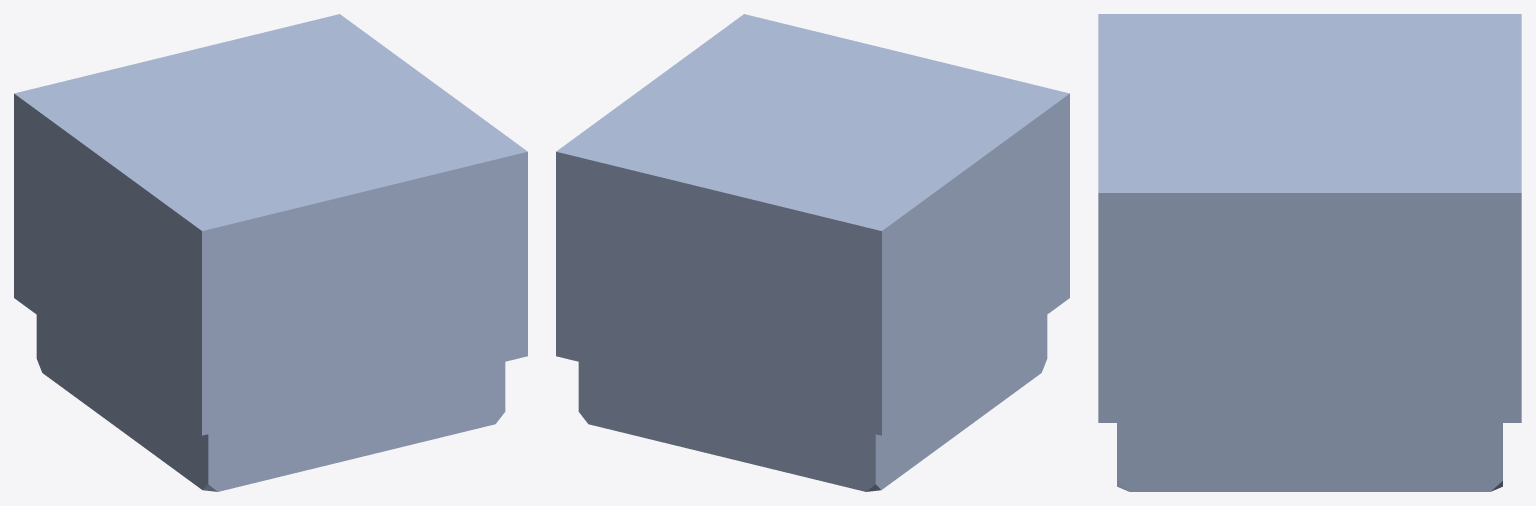
Rendered from Ceiling002.fbx.
The picture shows the model from 3 angles, left to right: view 1: azimuth 30°, elevation 25°; view 2: azimuth 150°, elevation 25°; view 3: azimuth 270°, elevation 25°; orthographic projection. The views are drawn at different scales.
Visible parts, largest first — view 1: Cube; view 2: Cube; view 3: Cube.
Boxes of the visible parts, bbox=[...] form: Cube: bbox=[14, 14, 527, 491]; Cube: bbox=[556, 14, 1069, 491]; Cube: bbox=[1098, 14, 1521, 491].
Bounding box in the file's own units: 100 × 80 × 100.
